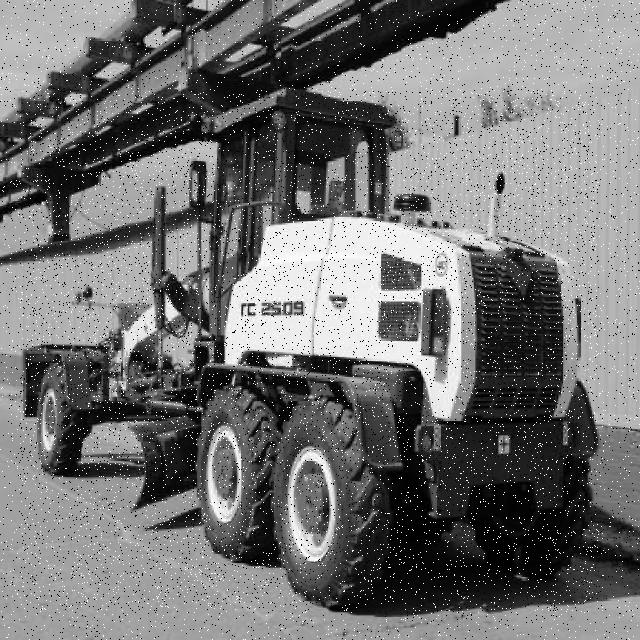Construction Equipment: (20, 89, 598, 611)
